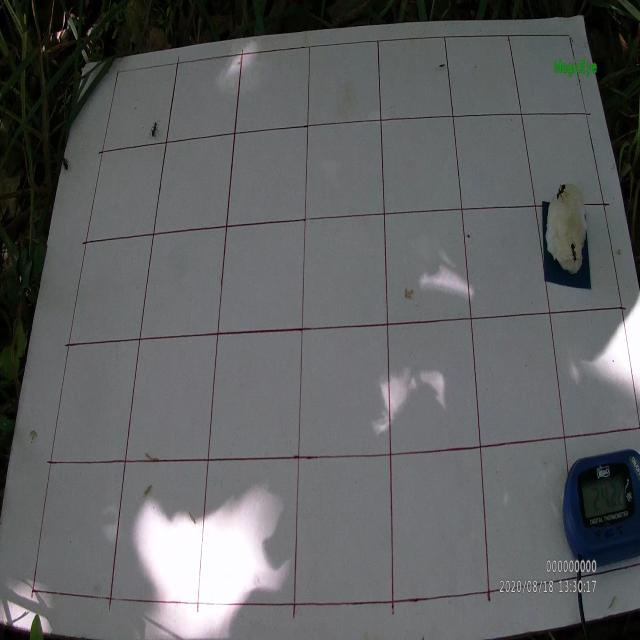Ant: (553, 182, 568, 204), (567, 238, 579, 264), (149, 118, 162, 136), (60, 155, 72, 174)
